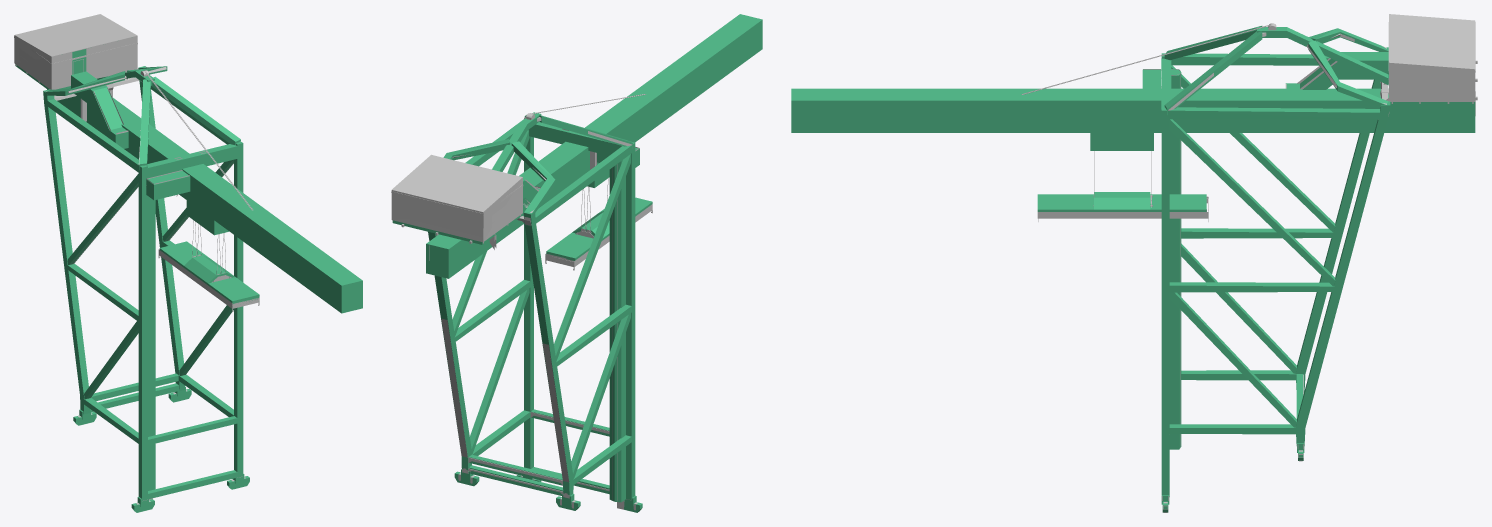
The model's file is ind_portcrane_a.dae.
3 renders of one model, left to right at view 1: azimuth 30°, elevation 25°; view 2: azimuth 150°, elevation 25°; view 3: azimuth 270°, elevation 25°, orthographic. The views are drawn at different scales.
Parts seen in each view (by area): view 1: Colmesh-1, ind_bld_a1600, ind_bld_a600, ind_bld_a150; view 2: Colmesh-1, ind_bld_a1600, ind_bld_a600, ind_bld_a150; view 3: Colmesh-1, ind_bld_a1600, ind_bld_a600, ind_bld_a150.
Part boxes in pixels (left/top/right/bottom): Colmesh-1: left=15, top=49, right=362, bottom=512; ind_bld_a1600: left=14, top=14, right=259, bottom=504; ind_bld_a600: left=14, top=36, right=252, bottom=210; ind_bld_a150: left=54, top=78, right=233, bottom=397; Colmesh-1: left=392, top=14, right=762, bottom=512; ind_bld_a1600: left=391, top=94, right=652, bottom=510; ind_bld_a600: left=391, top=94, right=645, bottom=509; ind_bld_a150: left=489, top=129, right=652, bottom=266; Colmesh-1: left=791, top=26, right=1475, bottom=512; ind_bld_a1600: left=1021, top=14, right=1477, bottom=509; ind_bld_a600: left=1022, top=24, right=1475, bottom=512; ind_bld_a150: left=1038, top=82, right=1388, bottom=218.
Size of the model in its own units: 10.9 by 48.19 by 35.42.
